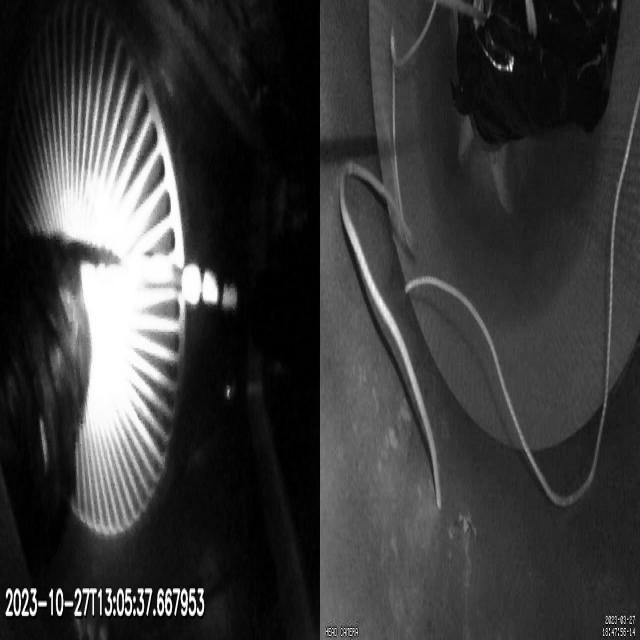white-dots: (180, 262, 237, 313)
